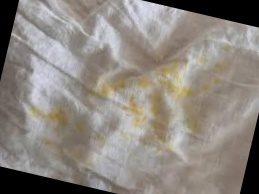mustard: (90, 59, 149, 111), (175, 101, 210, 146), (171, 72, 208, 105), (145, 109, 174, 148), (39, 143, 87, 166), (152, 57, 180, 91), (126, 96, 155, 128), (33, 103, 70, 125), (140, 90, 165, 120), (68, 122, 101, 139), (212, 61, 230, 80), (197, 54, 209, 65), (220, 45, 233, 53)
